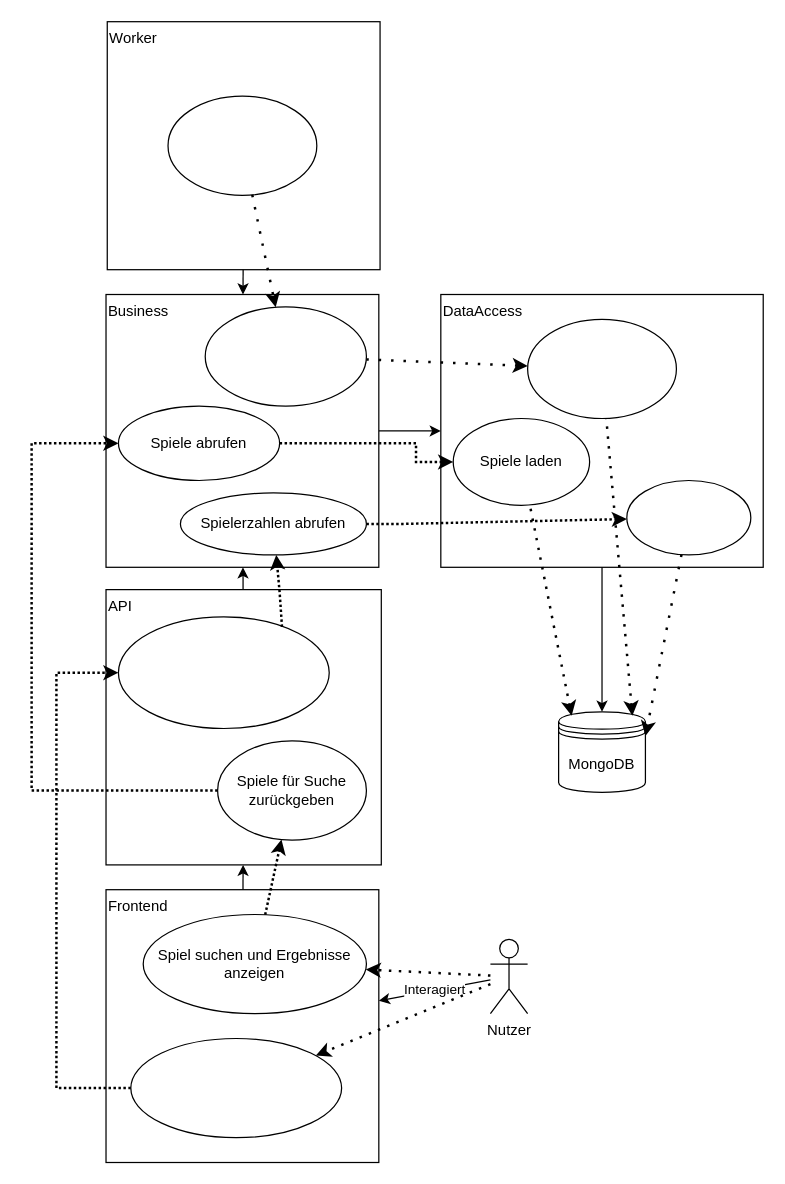
This 785x1184 diagram has some shape labels left out. The shapes that lost their labels are listed below. From the top down, each one's centre as x and y in pixels, then its label:
At [242,145]: "Crawling Job ausführen".
At [285,356]: "GameStores abrufen".
At [601,368]: "Update Games in Database".
At [688,517]: "Spielerzahlen laden".
At [223,672]: "Steam Spiele mit den meisten Spielern bereitstellen".
At [236,1087]: "Spiele mit den meisten Spielern anzeigen".
